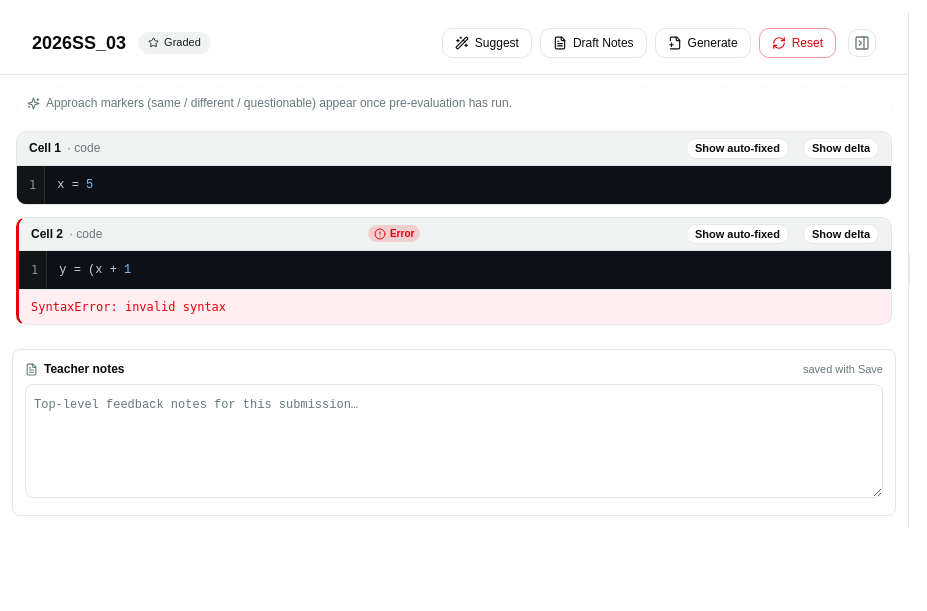
Test: submissions/[id] — autofix view state + dispositions › hides the sticky bar until a cell is toggled; Show all original resets
Expected: the text "Cell 2" is shown, [31,225,63,243]
Expected: the text "cell(s) showing auto-fixed versions" is not shown
Click the button "Show auto-fixed" in the row of "Cell 2" at point(738, 234), box [686,224,789,244]
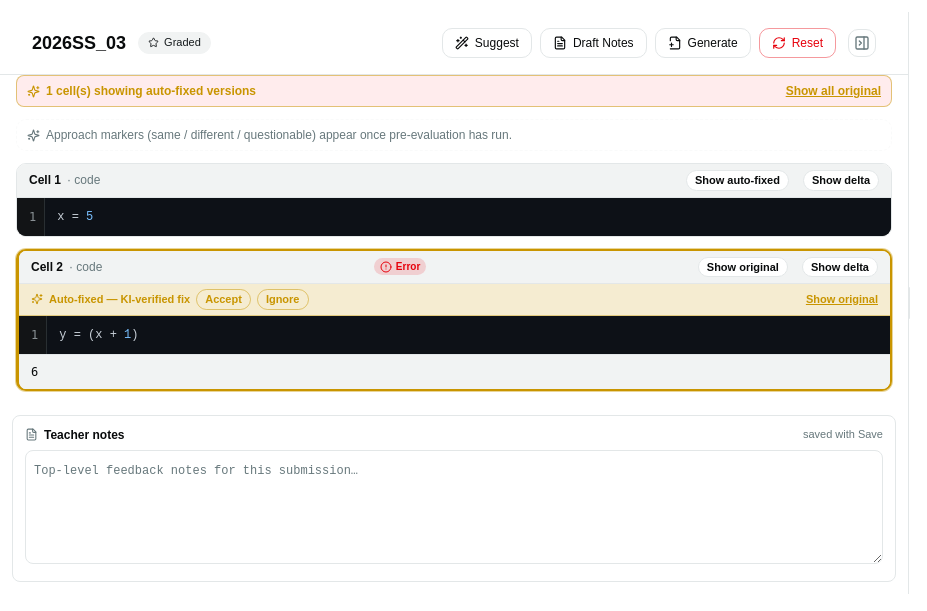
Now the text "1 cell(s) showing auto-fixed versions" is shown, box [46,82,256,100]
Click the button "Show all original" at point(833, 91), box [786,82,881,100]
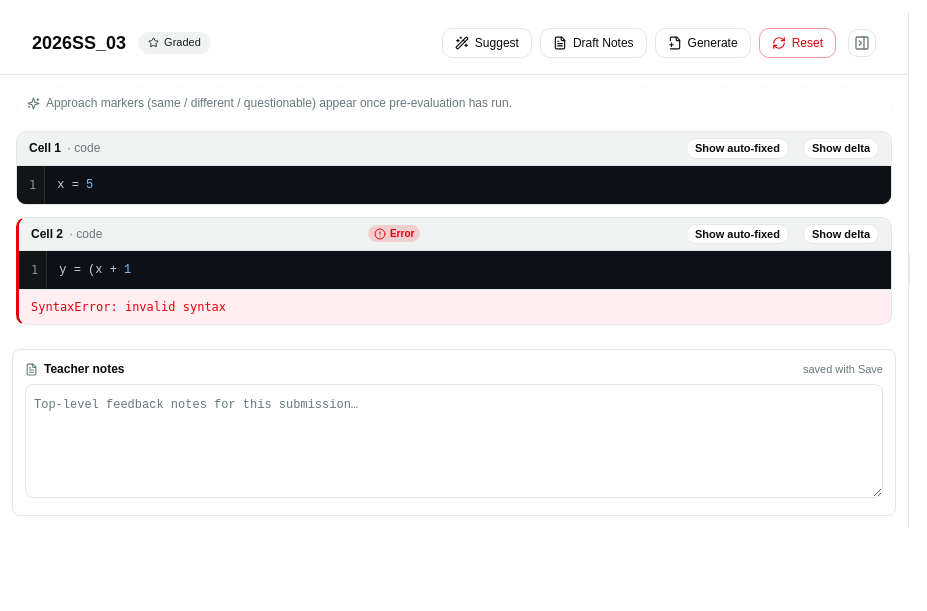
Now the text "cell(s) showing auto-fixed versions" is gone
